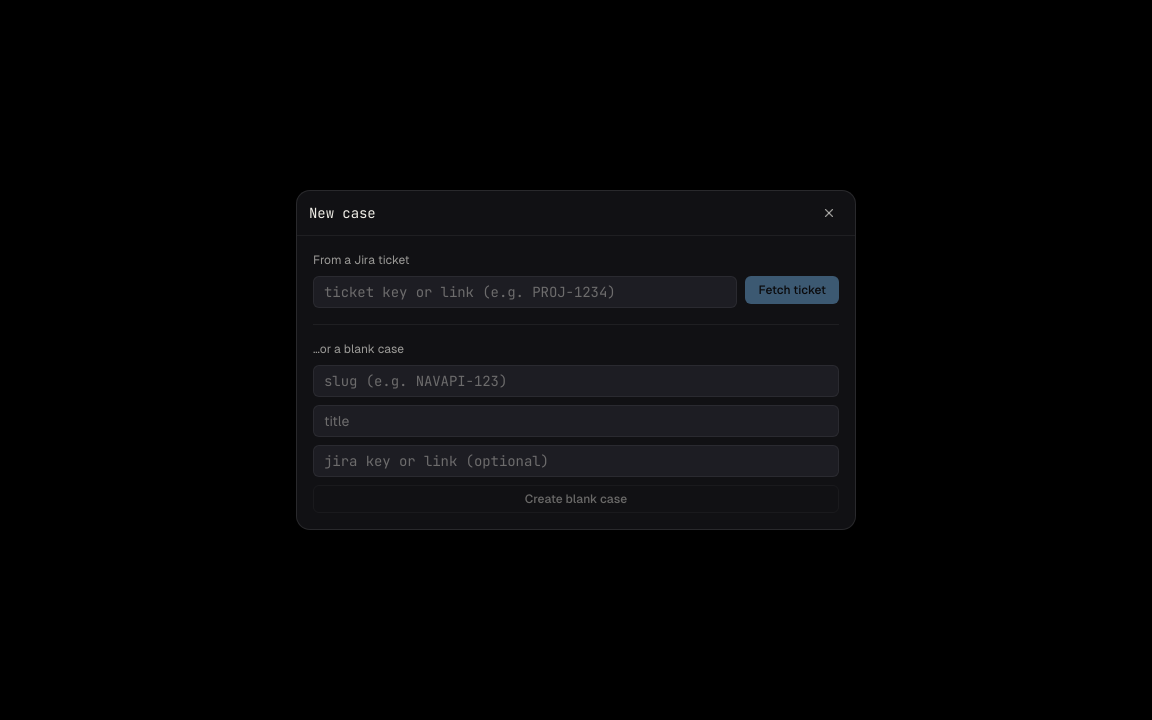
Scenario: NewCaseDialog › a failed fetch keeps the typed key in the entry field for retry
This screenshot has width=1152, height=720.
Type "PROJ-7" into the field with placeholder "ticket key or link (e.g. PROJ-1234)" at (525, 292), box [313, 276, 737, 308]
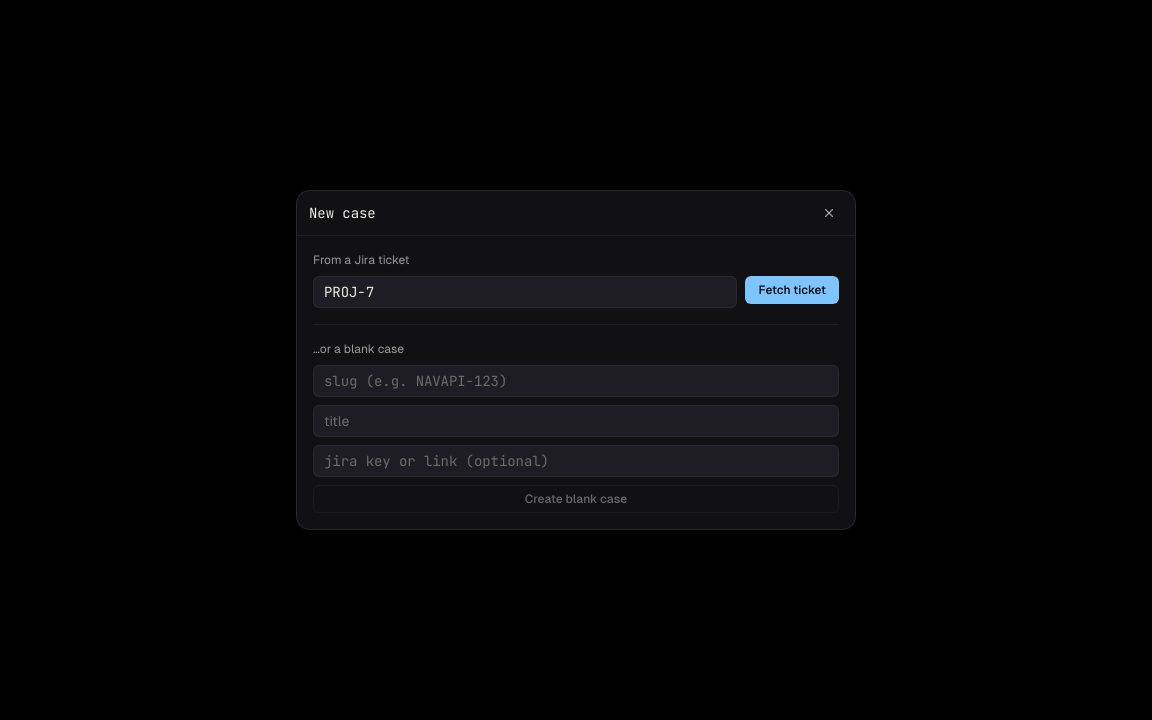
Click the button "Fetch ticket" at (792, 290), box [745, 276, 839, 304]
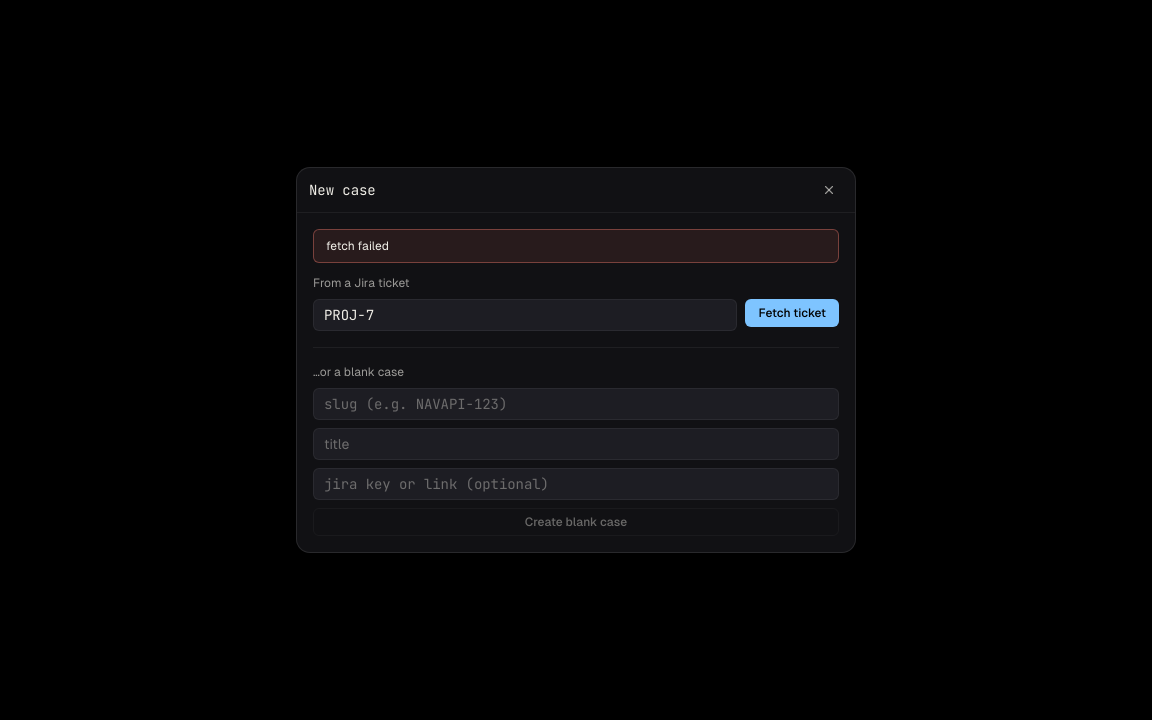
expect the button "Fetch ticket" is enabled: met, box [745, 299, 839, 327]
expect the message "fetch failed" is shown: met, box [313, 229, 839, 263]
